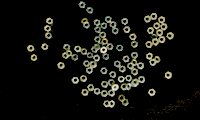nut: (167, 32, 175, 40), (165, 71, 173, 79), (148, 89, 156, 97), (158, 16, 166, 24), (144, 15, 152, 23), (137, 62, 145, 70), (138, 76, 146, 84), (118, 95, 126, 103), (109, 71, 117, 79), (108, 79, 116, 87), (100, 67, 108, 75), (93, 43, 101, 51), (80, 75, 88, 83), (74, 45, 82, 53), (57, 62, 65, 70), (46, 17, 54, 25), (161, 23, 168, 31), (157, 29, 164, 37), (159, 36, 166, 44), (154, 22, 161, 30), (147, 27, 155, 34), (147, 52, 154, 60), (121, 18, 129, 25), (131, 41, 139, 48), (131, 52, 139, 59), (132, 79, 140, 86), (132, 68, 139, 76), (131, 59, 138, 67), (122, 99, 129, 107), (119, 65, 126, 73), (116, 45, 124, 52), (112, 27, 119, 35), (108, 89, 115, 97), (109, 100, 116, 108), (101, 90, 108, 98), (101, 81, 109, 88), (87, 84, 95, 91), (82, 89, 89, 97), (103, 53, 110, 61), (101, 22, 108, 30), (86, 7, 94, 14), (100, 31, 107, 39), (101, 38, 109, 45), (94, 36, 102, 43), (89, 61, 97, 68), (65, 50, 73, 57), (63, 44, 71, 51), (44, 25, 52, 32), (45, 32, 53, 39), (41, 43, 49, 50), (27, 45, 35, 52), (31, 54, 38, 62), (151, 13, 158, 20), (151, 34, 158, 41), (146, 41, 153, 48), (154, 56, 161, 63), (150, 59, 157, 66), (124, 26, 131, 33), (131, 81, 138, 88), (128, 63, 135, 70), (126, 75, 133, 82), (118, 76, 125, 83), (123, 56, 130, 63), (114, 61, 121, 68), (110, 21, 117, 28), (105, 16, 112, 23), (112, 84, 119, 91), (94, 88, 101, 95), (107, 43, 114, 50), (79, 1, 86, 8), (94, 19, 101, 26), (95, 26, 102, 33), (82, 18, 89, 25), (83, 22, 90, 29), (101, 47, 108, 54), (91, 46, 98, 53), (93, 55, 100, 62), (87, 52, 94, 59), (86, 67, 93, 74), (72, 77, 79, 84), (81, 48, 88, 55), (72, 54, 79, 61), (62, 52, 69, 59), (129, 34, 137, 40), (126, 83, 132, 91), (121, 83, 127, 91), (104, 100, 110, 108), (153, 39, 159, 46), (97, 43, 104, 49), (83, 61, 90, 67), (92, 62, 97, 69)
